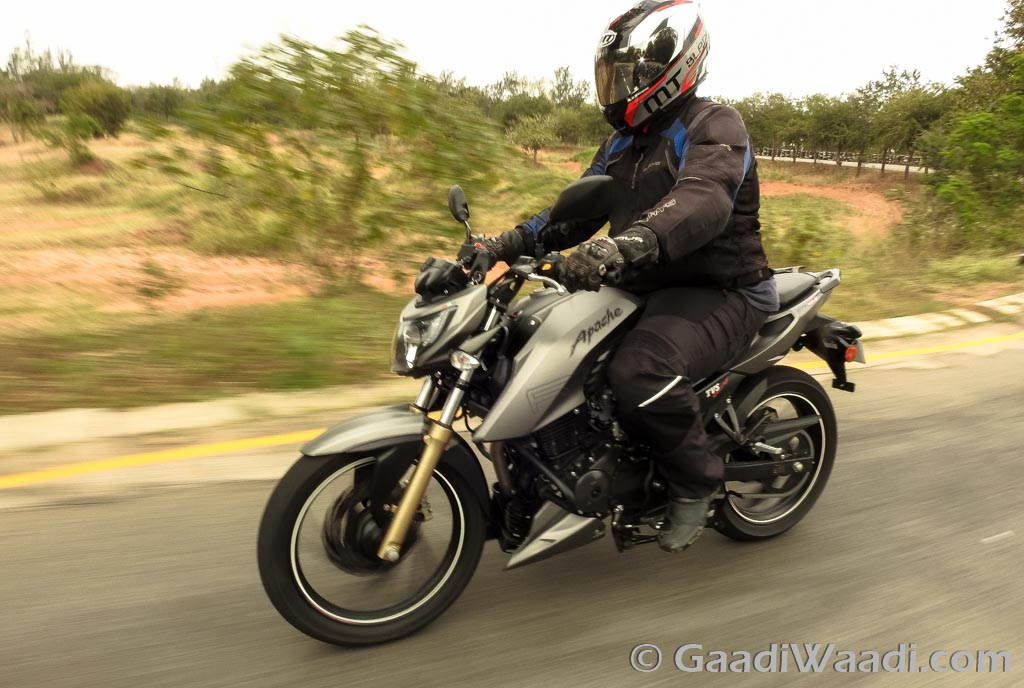helmet: (590, 8, 713, 127)
